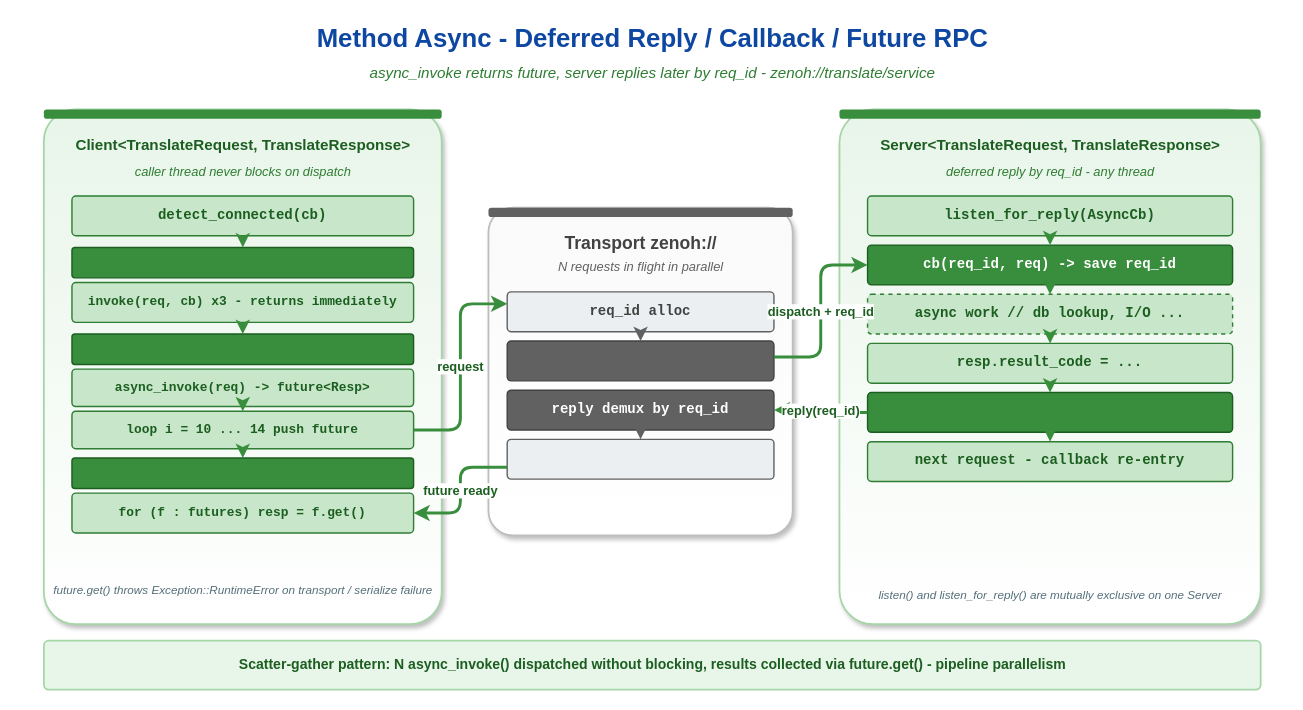
The diagram is 1303 pixels wide and 710 high, and some of its shapes have lost their labels. The centre of each missing label's shape, as x and y in pixels:
"Gather - future.get()" goes at point (242, 473).
"Mode 1 - callback invoke" goes at point (242, 262).
"Mode 2 - future invoke (scatter)" goes at point (242, 349).
"parallel pipeline" goes at point (640, 360).
"server.reply(req_id, resp)" goes at point (1049, 411).
"set_value on future" goes at point (640, 458).
